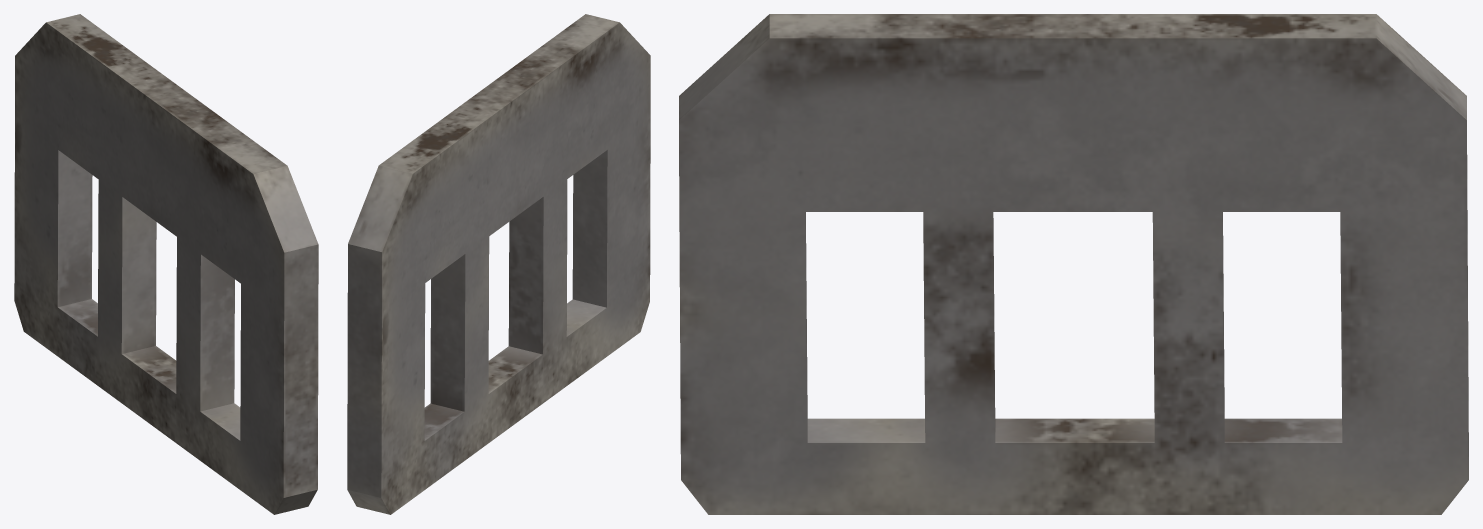
Rendered from BLD_Wall S.fbx.
3 views of the same model, side by side, from view 1: azimuth 30°, elevation 25°; view 2: azimuth 150°, elevation 25°; view 3: azimuth 270°, elevation 25° (orthographic). The views are drawn at different scales.
Parts seen in each view (by area): view 1: wall window 2; view 2: wall window 2; view 3: wall window 2.
Part boxes in pixels (x1=…): wall window 2: x1=14, y1=14, x2=318, y2=514; wall window 2: x1=347, y1=14, x2=650, y2=514; wall window 2: x1=679, y1=14, x2=1468, y2=514.
Size of the model in its own units: 41.37 by 376 by 565.
Materials: 1 (1 with a texture image).
